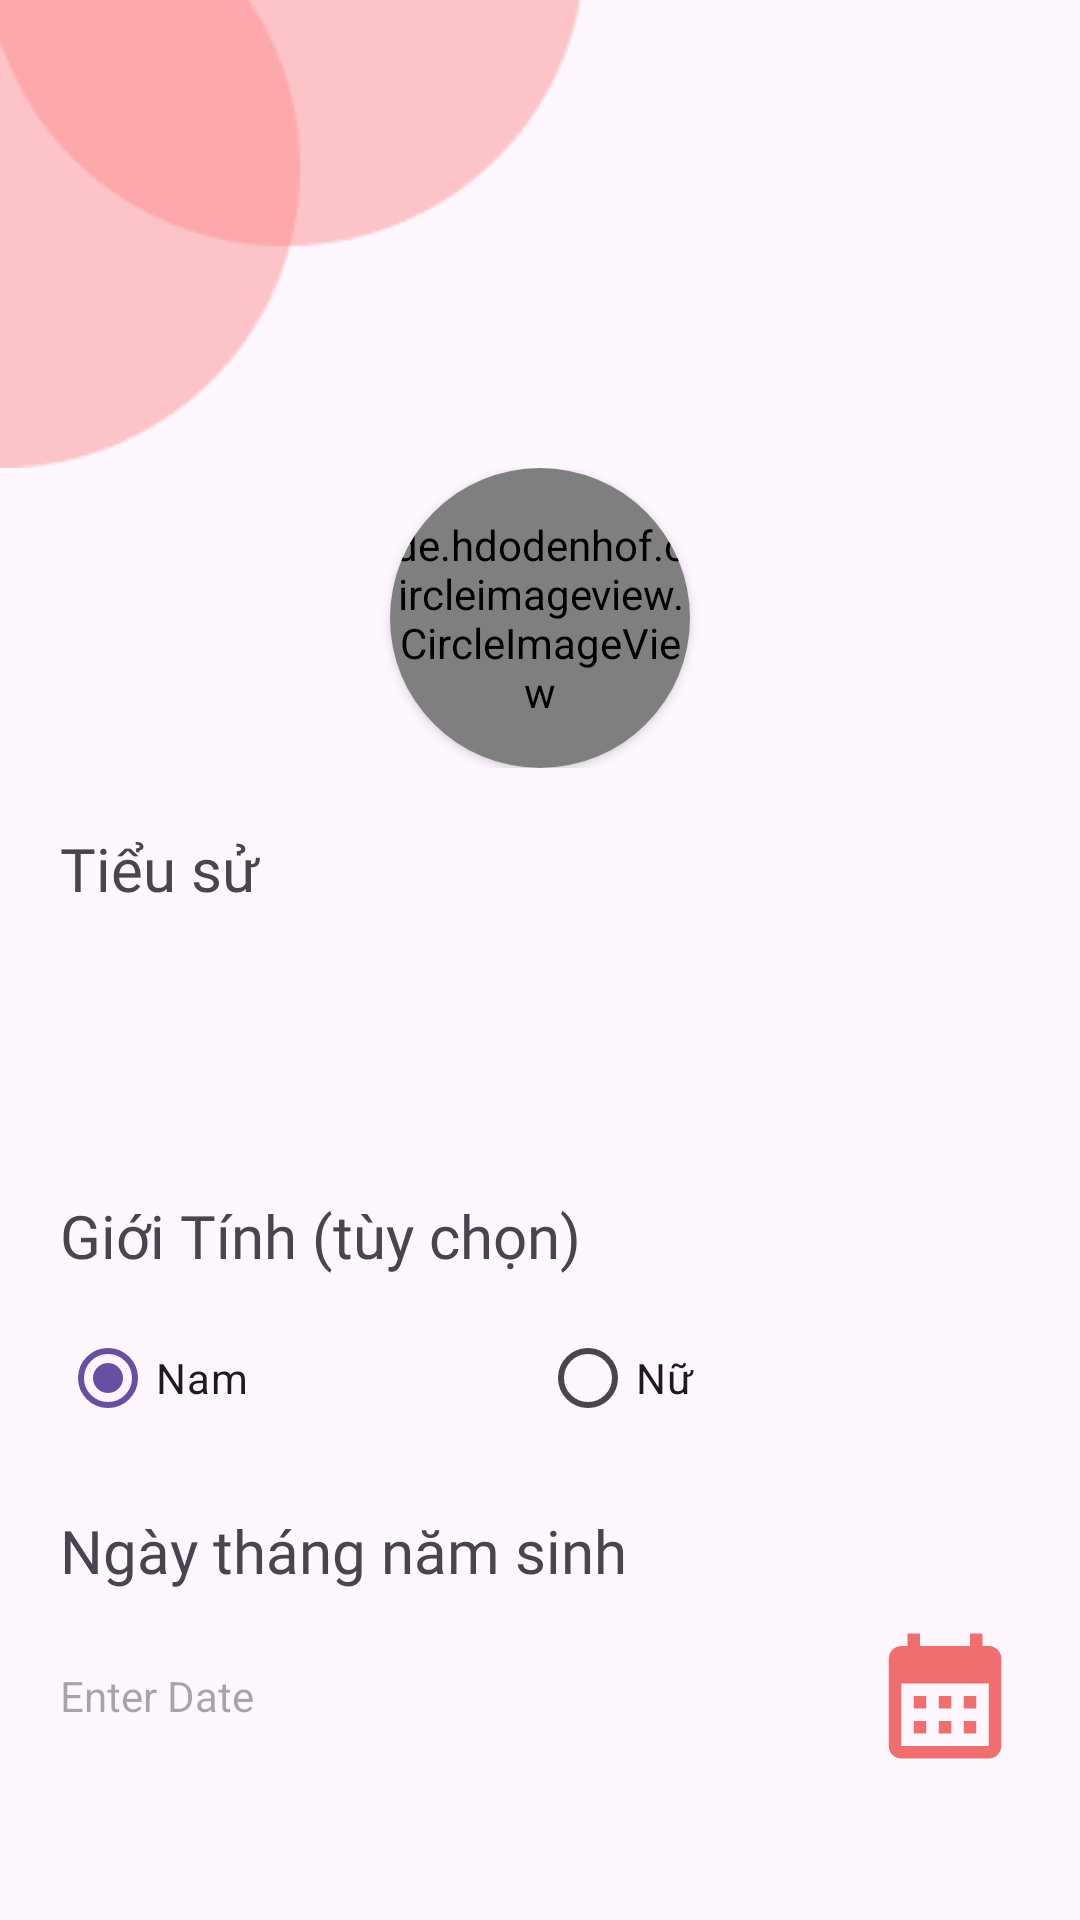

Named icons in this screenshot (1080*1920) and their bounding boxes, bbox(x1, y1, x2, y2):
lich: bbox(888, 1633, 1002, 1759)
